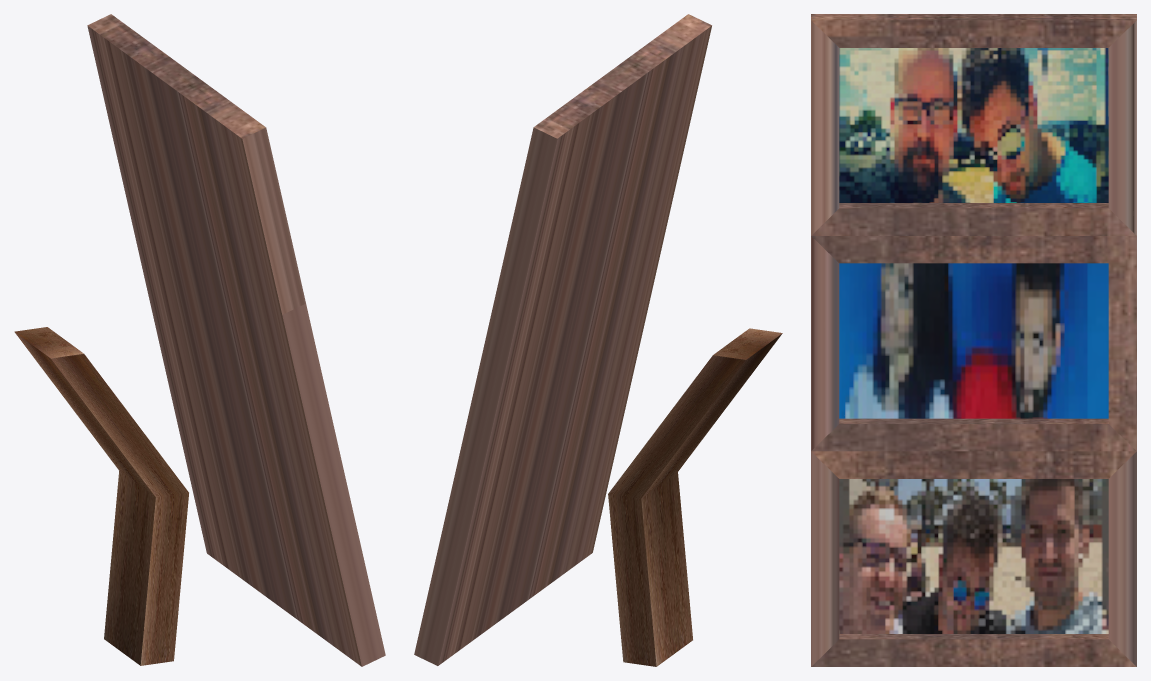
Rendered from photos3.FBX.
The picture shows the model from 3 angles, left to right: view 1: azimuth 30°, elevation 25°; view 2: azimuth 150°, elevation 25°; view 3: azimuth 270°, elevation 25°; orthographic projection. The views are drawn at different scales.
Parts seen in each view (by area): view 1: Box001, Box002; view 2: Box001, Box002; view 3: Box001, Object002, Object001, Object003.
Boxes of the visible parts, x1,y1,x2,y2 form: Box001: (87, 14, 385, 666); Box002: (14, 327, 188, 665); Box001: (414, 14, 711, 665); Box002: (608, 328, 782, 666); Box001: (811, 14, 1136, 666); Object002: (839, 263, 1108, 418); Object001: (839, 48, 1108, 202); Object003: (839, 479, 1108, 633).
Size of the model in its own units: 30.65 by 60.82 by 29.98.
Materials: 5 (5 with a texture image).
